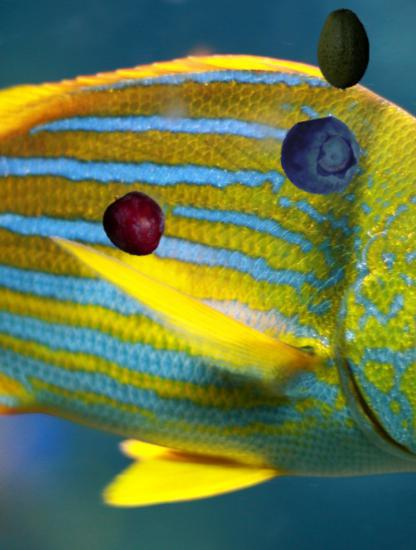Avocado: (302, 7, 386, 91)
Huckleberry: (280, 116, 361, 197)
Plum: (101, 190, 170, 259)
